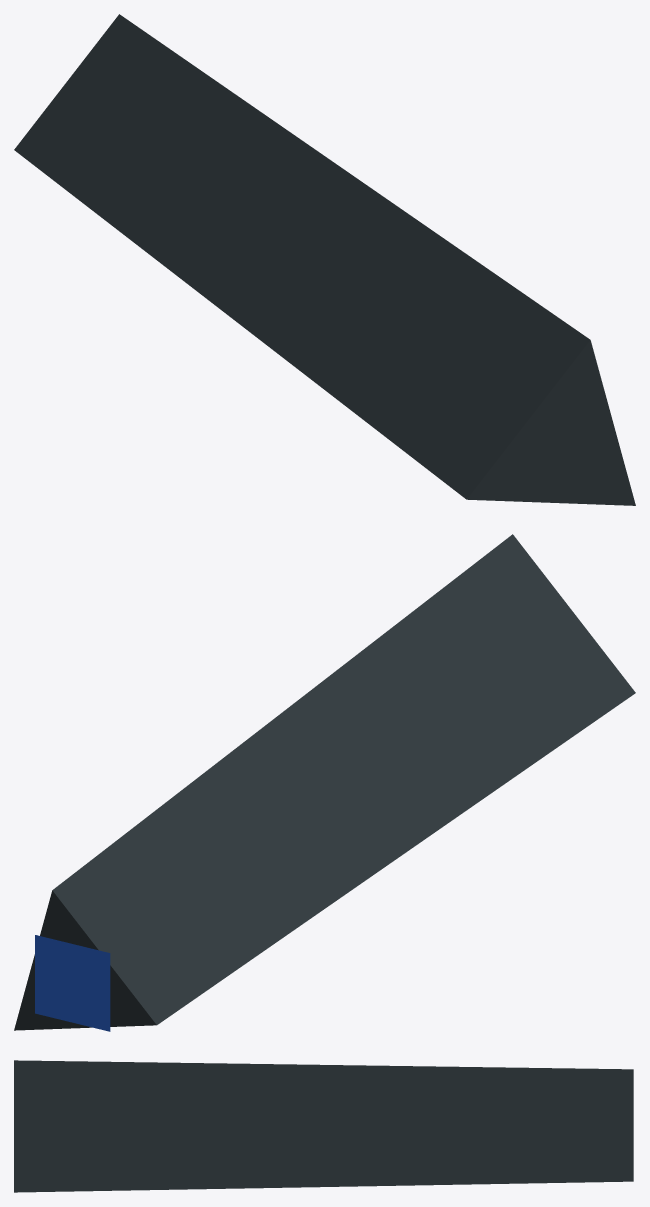
3 renders of one model, top to bottom at view 1: azimuth 30°, elevation 25°; view 2: azimuth 150°, elevation 25°; view 3: azimuth 270°, elevation 25°, orthographic. The views are drawn at different scales.
Parts seen in each view (by area): view 1: mount; view 2: mount; view 3: mount.
Boxes of the visible parts, x1,y1,x2,y2 form: mount: [14, 14, 635, 505]; mount: [14, 534, 635, 1031]; mount: [14, 1060, 633, 1192].
Bounding box in the file's own units: 1.67 × 1.67 × 8.03.
